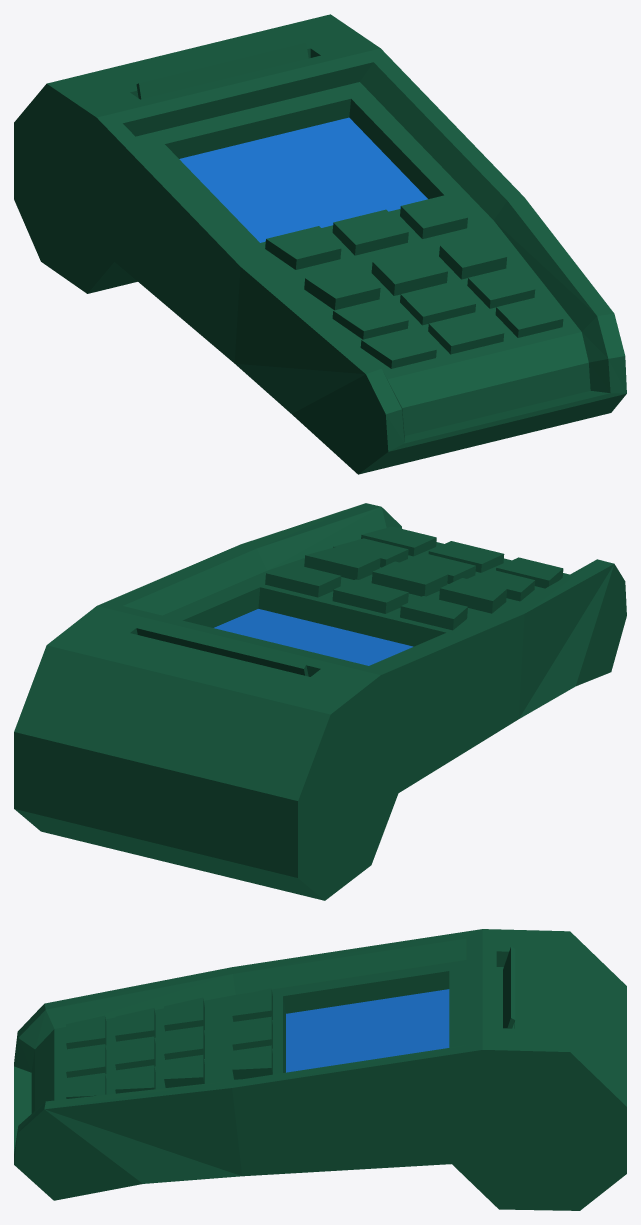
The model's file is T_payment_terminal1.fbx.
The picture shows the model from 3 angles, top to bottom: view 1: azimuth 30°, elevation 25°; view 2: azimuth 150°, elevation 25°; view 3: azimuth 270°, elevation 25°; orthographic projection. The views are drawn at different scales.
Visible parts, largest first — view 1: payment_terminal1; view 2: payment_terminal1; view 3: payment_terminal1.
Boxes of the visible parts, bbox=[...] form: payment_terminal1: bbox=[14, 14, 626, 474]; payment_terminal1: bbox=[14, 503, 626, 900]; payment_terminal1: bbox=[14, 929, 626, 1210].
Size of the model in its own units: 14.59 by 9.48 by 31.29.
